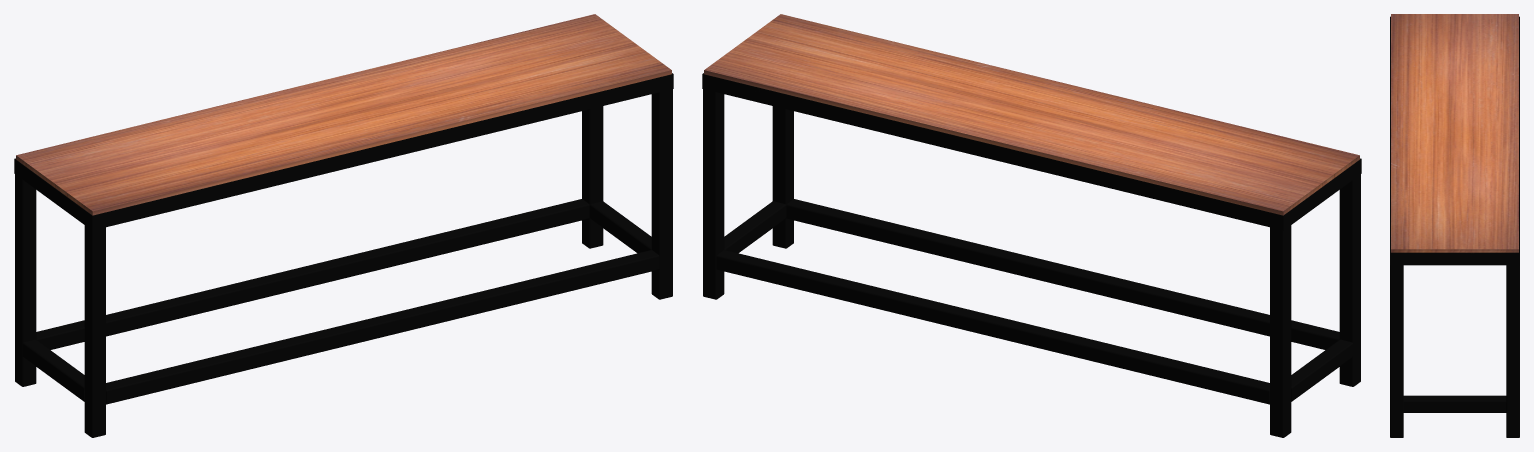
File: mesa_de_tv_tipo_industrial.glb
3 views of the same model, side by side, from view 1: azimuth 30°, elevation 25°; view 2: azimuth 150°, elevation 25°; view 3: azimuth 270°, elevation 25° (orthographic). The views are drawn at different scales.
Parts seen in each view (by area): view 1: Object002_id_2_Object002_id_2_0, Object002_id_1_Object002_id_1_0, Object001_id_2_Object001_id_2_0; view 2: Object002_id_1_Object002_id_1_0, Object002_id_2_Object002_id_2_0, Object001_id_2_Object001_id_2_0; view 3: Object002_id_1_Object002_id_1_0, Object002_id_2_Object002_id_2_0.
Boxes of the visible parts, x1=… form: Object002_id_2_Object002_id_2_0: x1=14, y1=73, x2=673, y2=437; Object002_id_1_Object002_id_1_0: x1=16, y1=14, x2=671, y2=215; Object001_id_2_Object001_id_2_0: x1=22, y1=199, x2=589, y2=401; Object002_id_1_Object002_id_1_0: x1=704, y1=14, x2=1359, y2=215; Object002_id_2_Object002_id_2_0: x1=702, y1=73, x2=1361, y2=437; Object001_id_2_Object001_id_2_0: x1=716, y1=250, x2=1353, y2=404; Object002_id_1_Object002_id_1_0: x1=1391, y1=14, x2=1518, y2=252; Object002_id_2_Object002_id_2_0: x1=1390, y1=16, x2=1519, y2=437.
Bounding box in the file's own units: 271 × 101 × 62.99.
3 materials, 3 textured.
